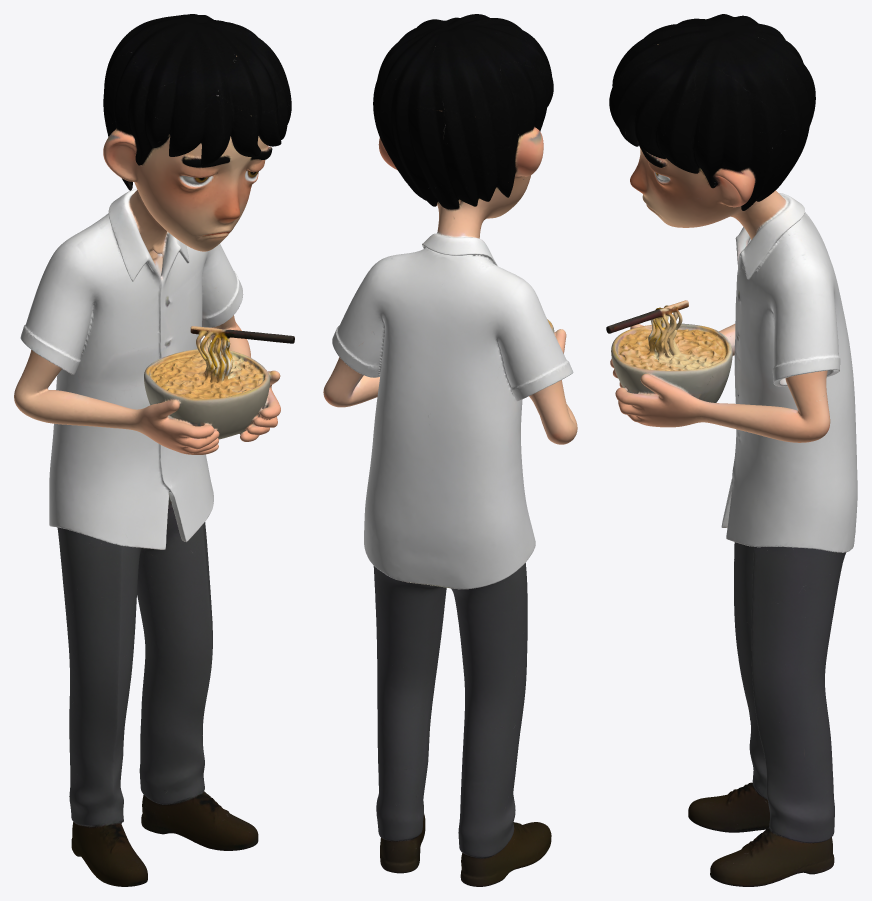
The model's file is kasus 4.glb.
The picture shows the model from 3 angles, left to right: view 1: azimuth 30°, elevation 25°; view 2: azimuth 150°, elevation 25°; view 3: azimuth 270°, elevation 25°; orthographic projection. The views are drawn at different scales.
Bounding box in the file's own units: 0.5673 × 1.9 × 0.5193.
Materials: 1 (1 with a texture image).
